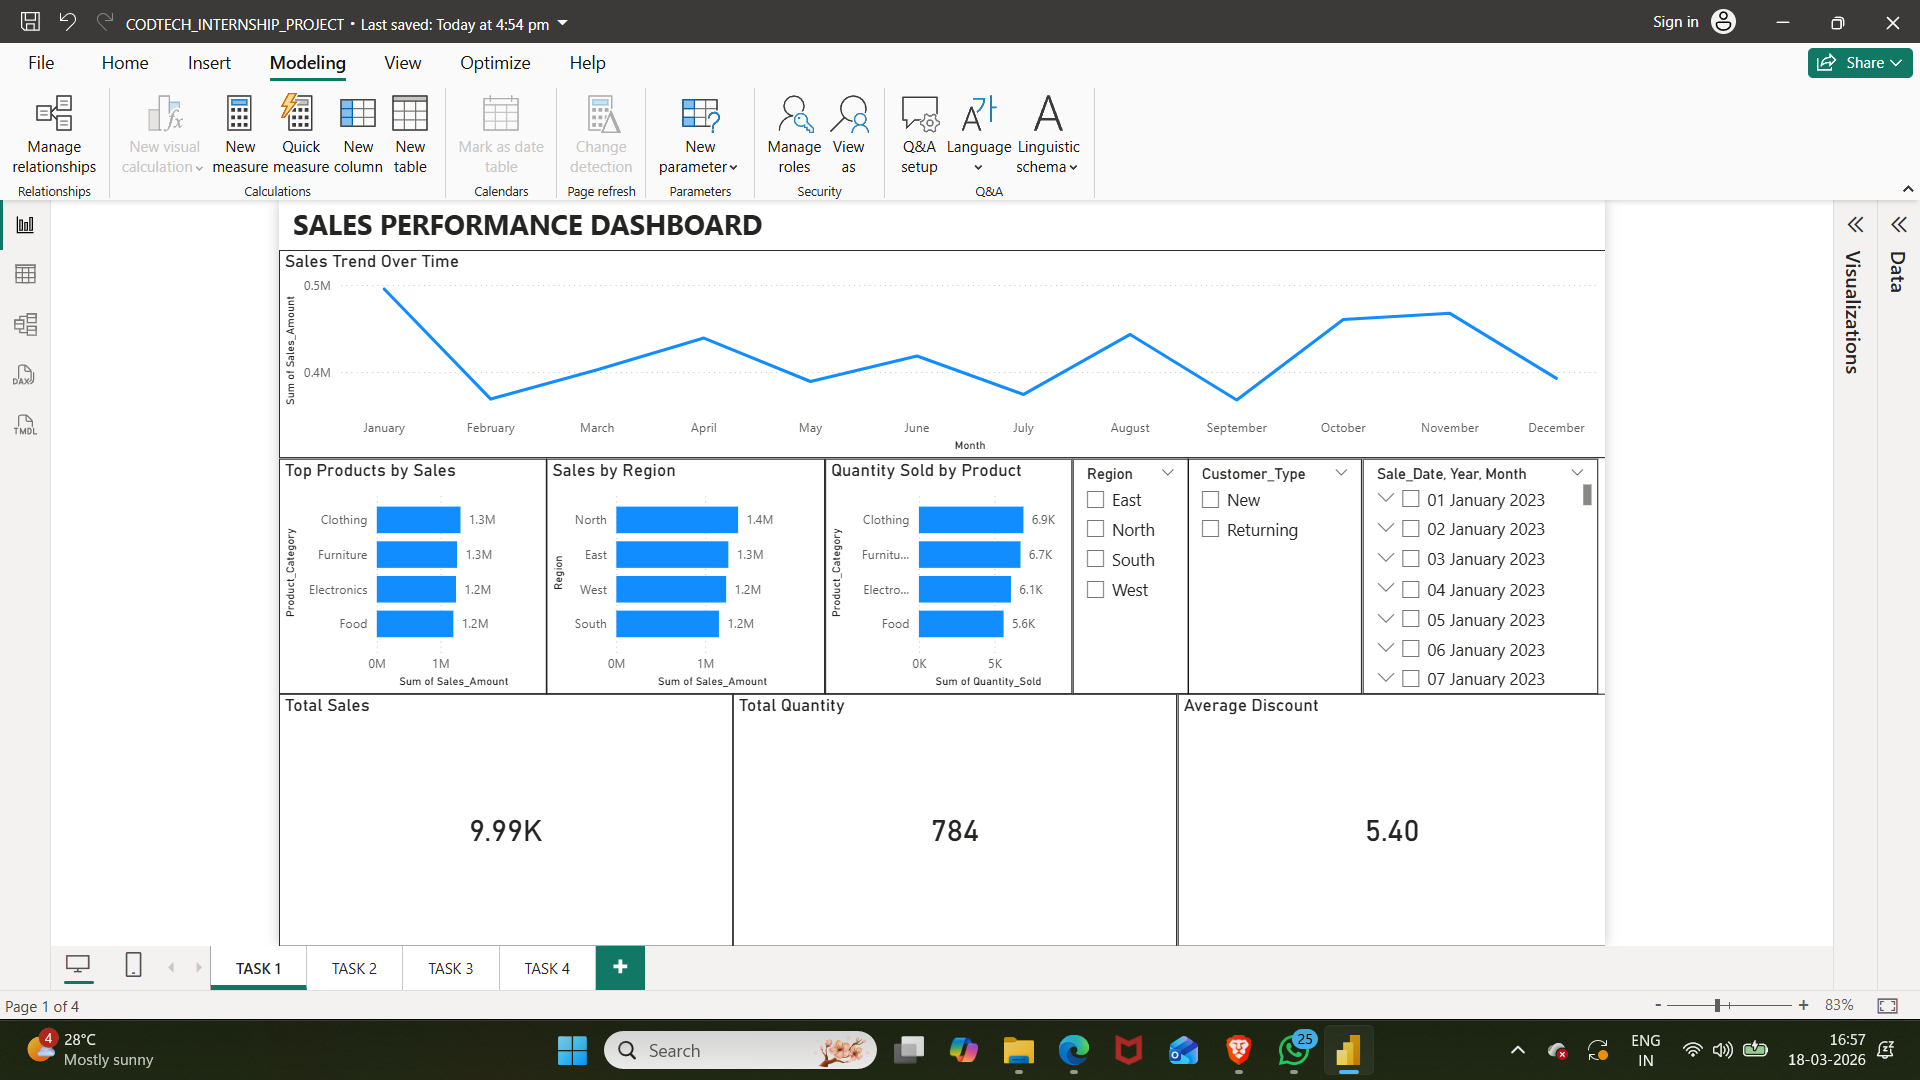

The dashboard page shown, as its layout file describes it:
{"tool":"powerbi","page":{"name":"TASK 1","canvas":[1280,720],"ordinal":0},"visuals":[{"type":"lineChart","title":"Sales Trend Over Time","fields":{"Category":["sales_data.Sale_Date.Variation.Date Hierarchy.Month"],"Y":["Sum(sales_data.Sales_Amount)"]},"box":[0,48.6,1280.5,201],"z":0},{"type":"barChart","title":"Top Products by Sales","fields":{"Category":["sales_data.Product_Category"],"Y":["Sum(sales_data.Sales_Amount)"]},"box":[0,249.5,258.6,227],"z":1000},{"type":"barChart","title":"Sales by Region","fields":{"Category":["sales_data.Region"],"Y":["Sum(sales_data.Sales_Amount)"]},"box":[258.6,249.5,268.7,227],"z":2000},{"type":"barChart","title":"Quantity Sold by Product","fields":{"Category":["sales_data.Product_Category"],"Y":["Sum(sales_data.Quantity_Sold)"]},"box":[527.3,249.5,238.3,227],"z":3000},{"type":"slicer","fields":{"Values":["sales_data.Region"]},"box":[765.6,249.5,111.8,227],"z":4000},{"type":"slicer","fields":{"Values":["sales_data.Customer_Type"]},"box":[877.4,249.5,168.2,227],"z":5000},{"type":"slicer","fields":{"Values":["sales_data.Sale_Date","sales_data.Sale_Date.Variation.Date Hierarchy.Year","sales_data.Sale_Date.Variation.Date Hierarchy.Month"]},"box":[1045.6,249.5,227,227],"z":6000},{"type":"kpi","title":"Total Sales","fields":{"Indicator":["Sum(sales_data.Sales_Amount)"],"TrendLine":["sales_data.Sales_Amount"]},"box":[0,476.5,438.1,243.9],"z":7000},{"type":"kpi","title":"Total Quantity","fields":{"Indicator":["Sum(sales_data.Quantity_Sold)"],"TrendLine":["sales_data.Quantity_Sold"]},"box":[438.1,476.5,429.1,243.9],"z":8000},{"type":"kpi","title":"Average Discount","fields":{"Indicator":["Sum(sales_data.Discount)"],"TrendLine":["sales_data.Discount"]},"box":[867.2,476.5,413.3,243.9],"z":9000},{"type":"textbox","box":[7.9,0,619.9,48.6],"z":10000}]}

Visuals, with their boxes on the page's 1280x720 design canvas (x1, y1, x2, y2). These are canvas units, not pixel positions in the 1920x1080 screenshot, which may show the page scaled, cropped or inside an application window:
"Sales Trend Over Time" lineChart: (0, 49, 1280, 250)
"Top Products by Sales" barChart: (0, 250, 259, 476)
"Sales by Region" barChart: (259, 250, 527, 476)
"Quantity Sold by Product" barChart: (527, 250, 766, 476)
slicer - sales_data.Region: (766, 250, 877, 476)
slicer - sales_data.Customer_Type: (877, 250, 1046, 476)
slicer - sales_data.Sale_Date x sales_data.Sale_Date.Variation.Date Hierarchy.Year: (1046, 250, 1273, 476)
"Total Sales" kpi: (0, 476, 438, 720)
"Total Quantity" kpi: (438, 476, 867, 720)
"Average Discount" kpi: (867, 476, 1280, 720)
textbox: (8, 0, 628, 49)
